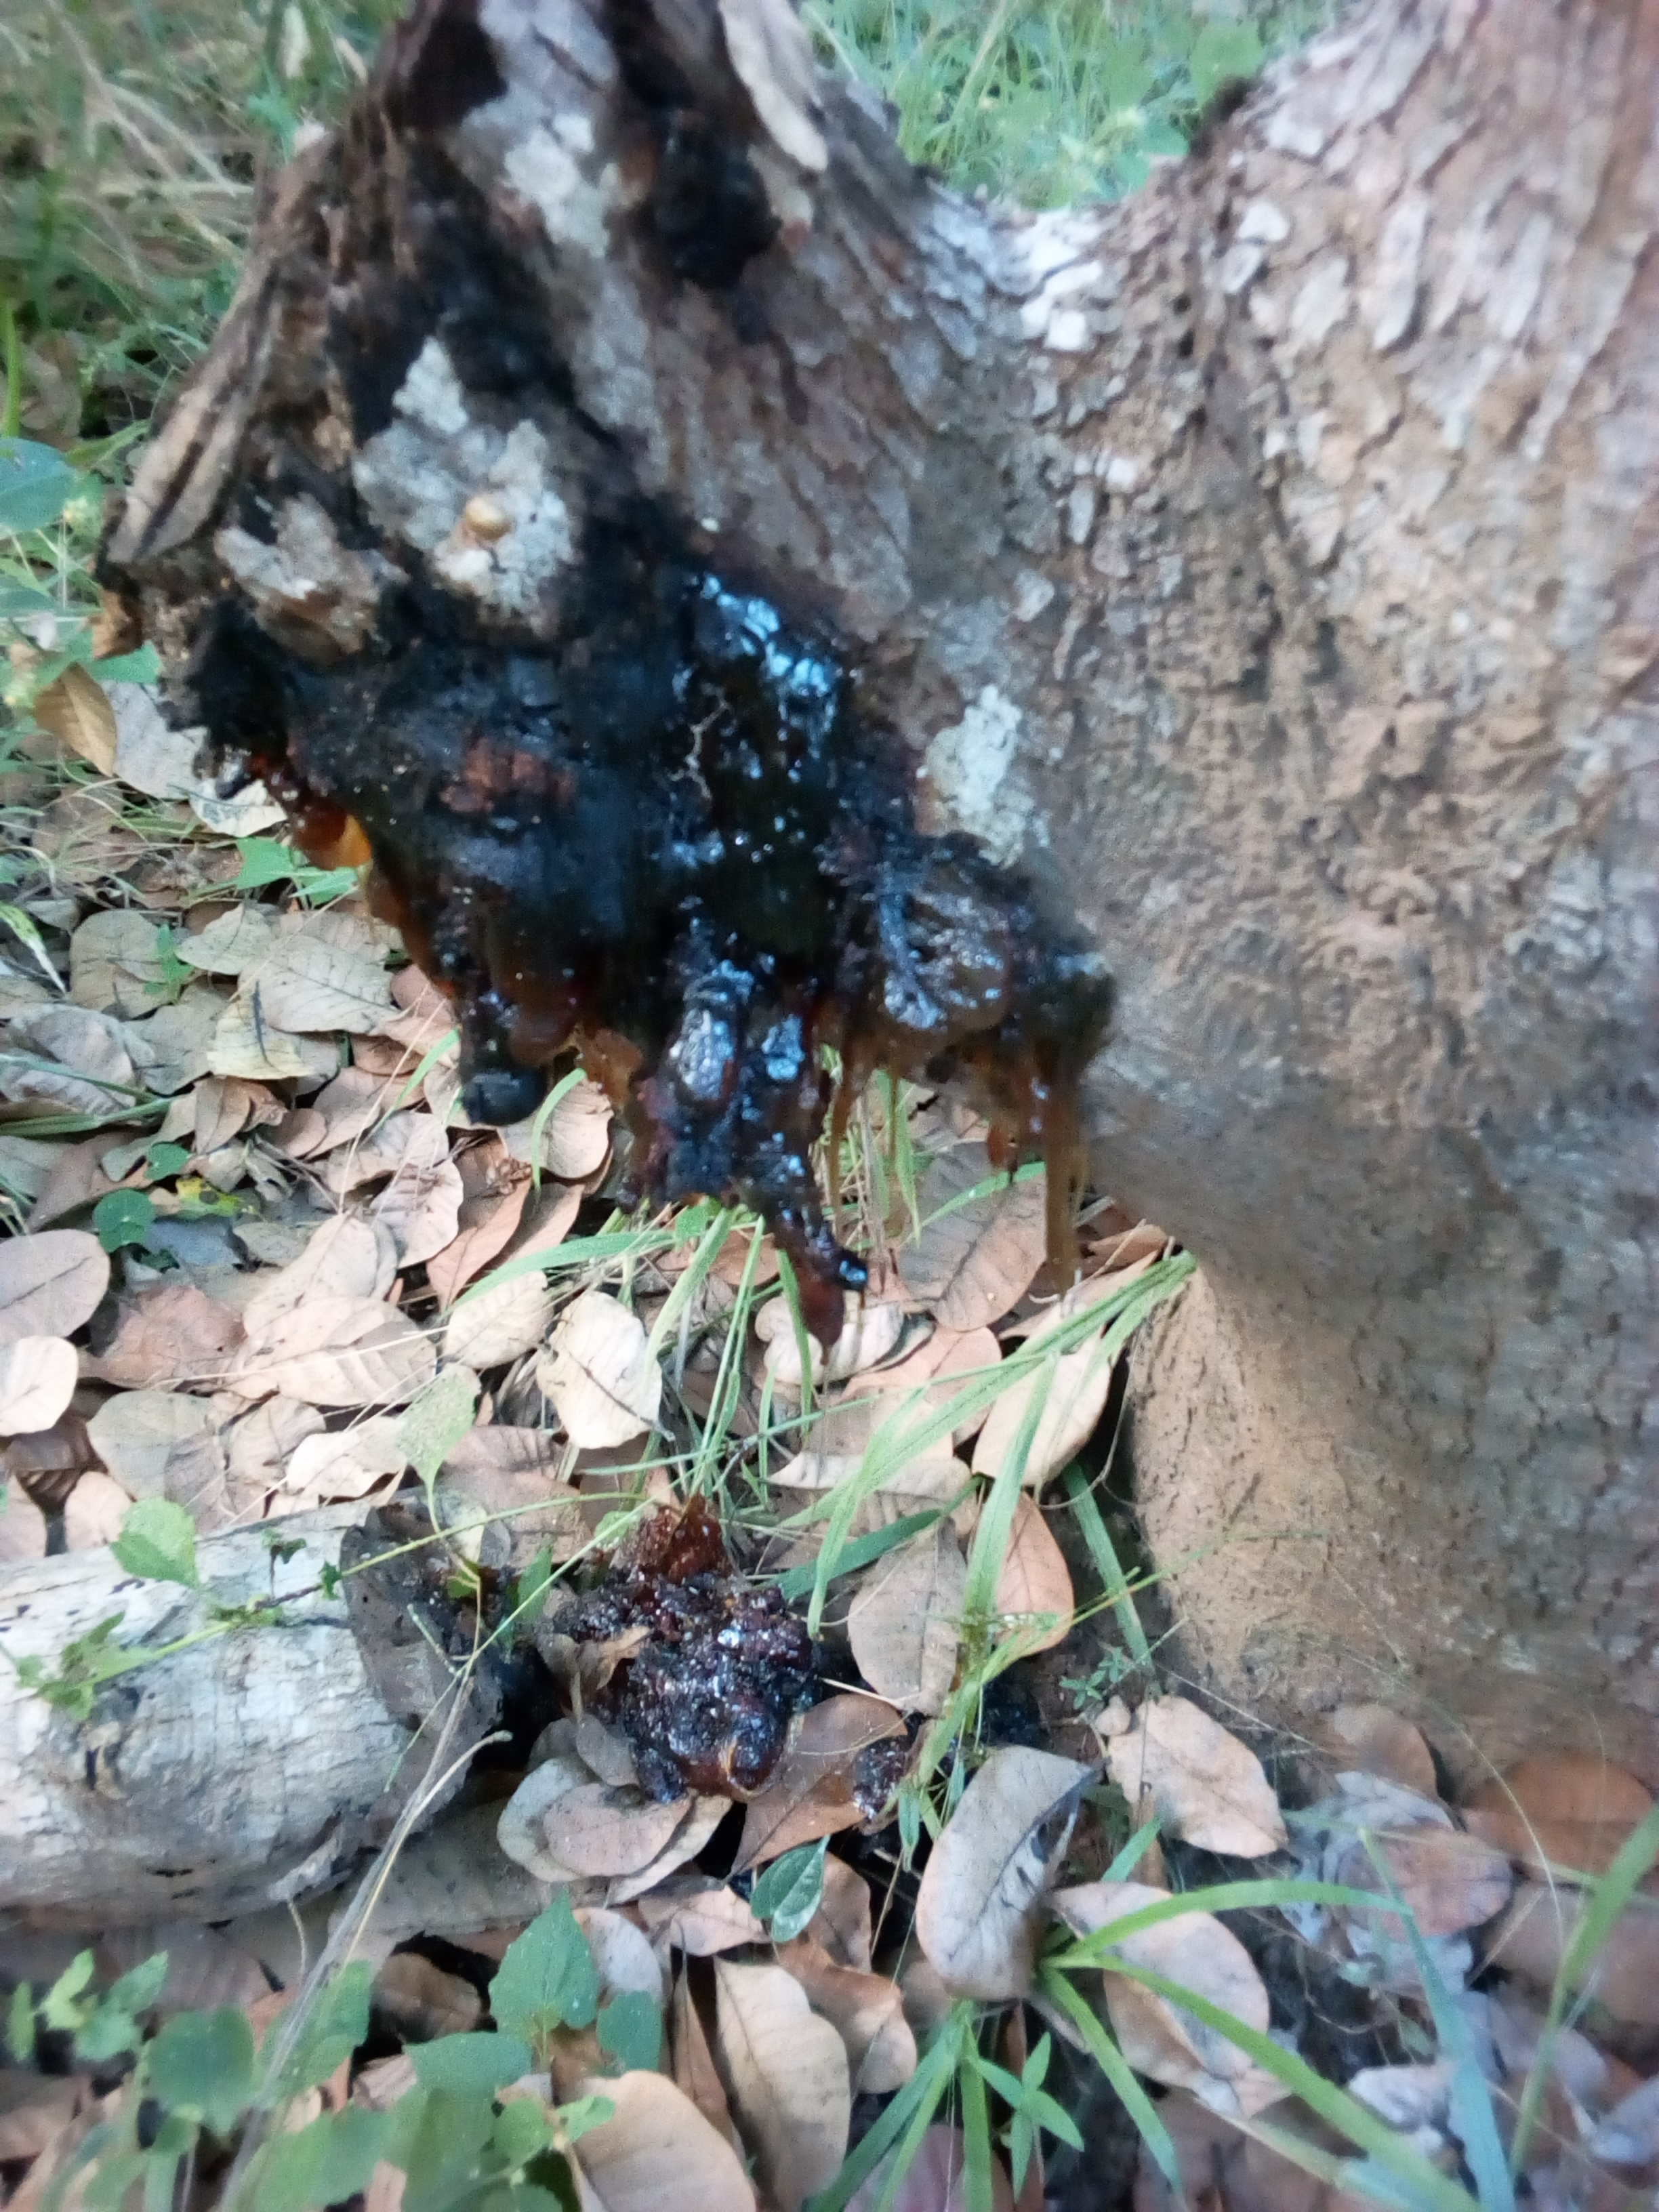Mecocorynus longiceps: (202, 514, 1202, 1357)
